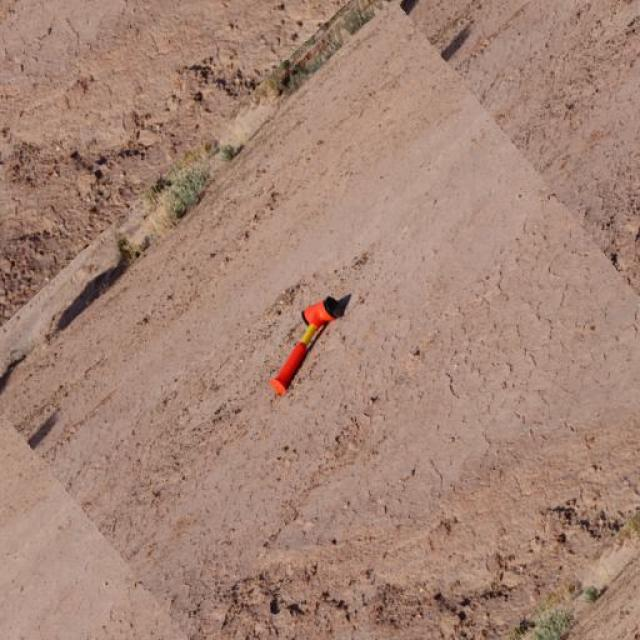mallet: (268, 292, 352, 398)
